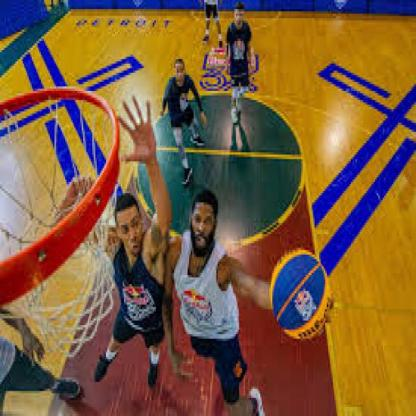basketball: (268, 250, 333, 343)
rim: (2, 94, 121, 328)
